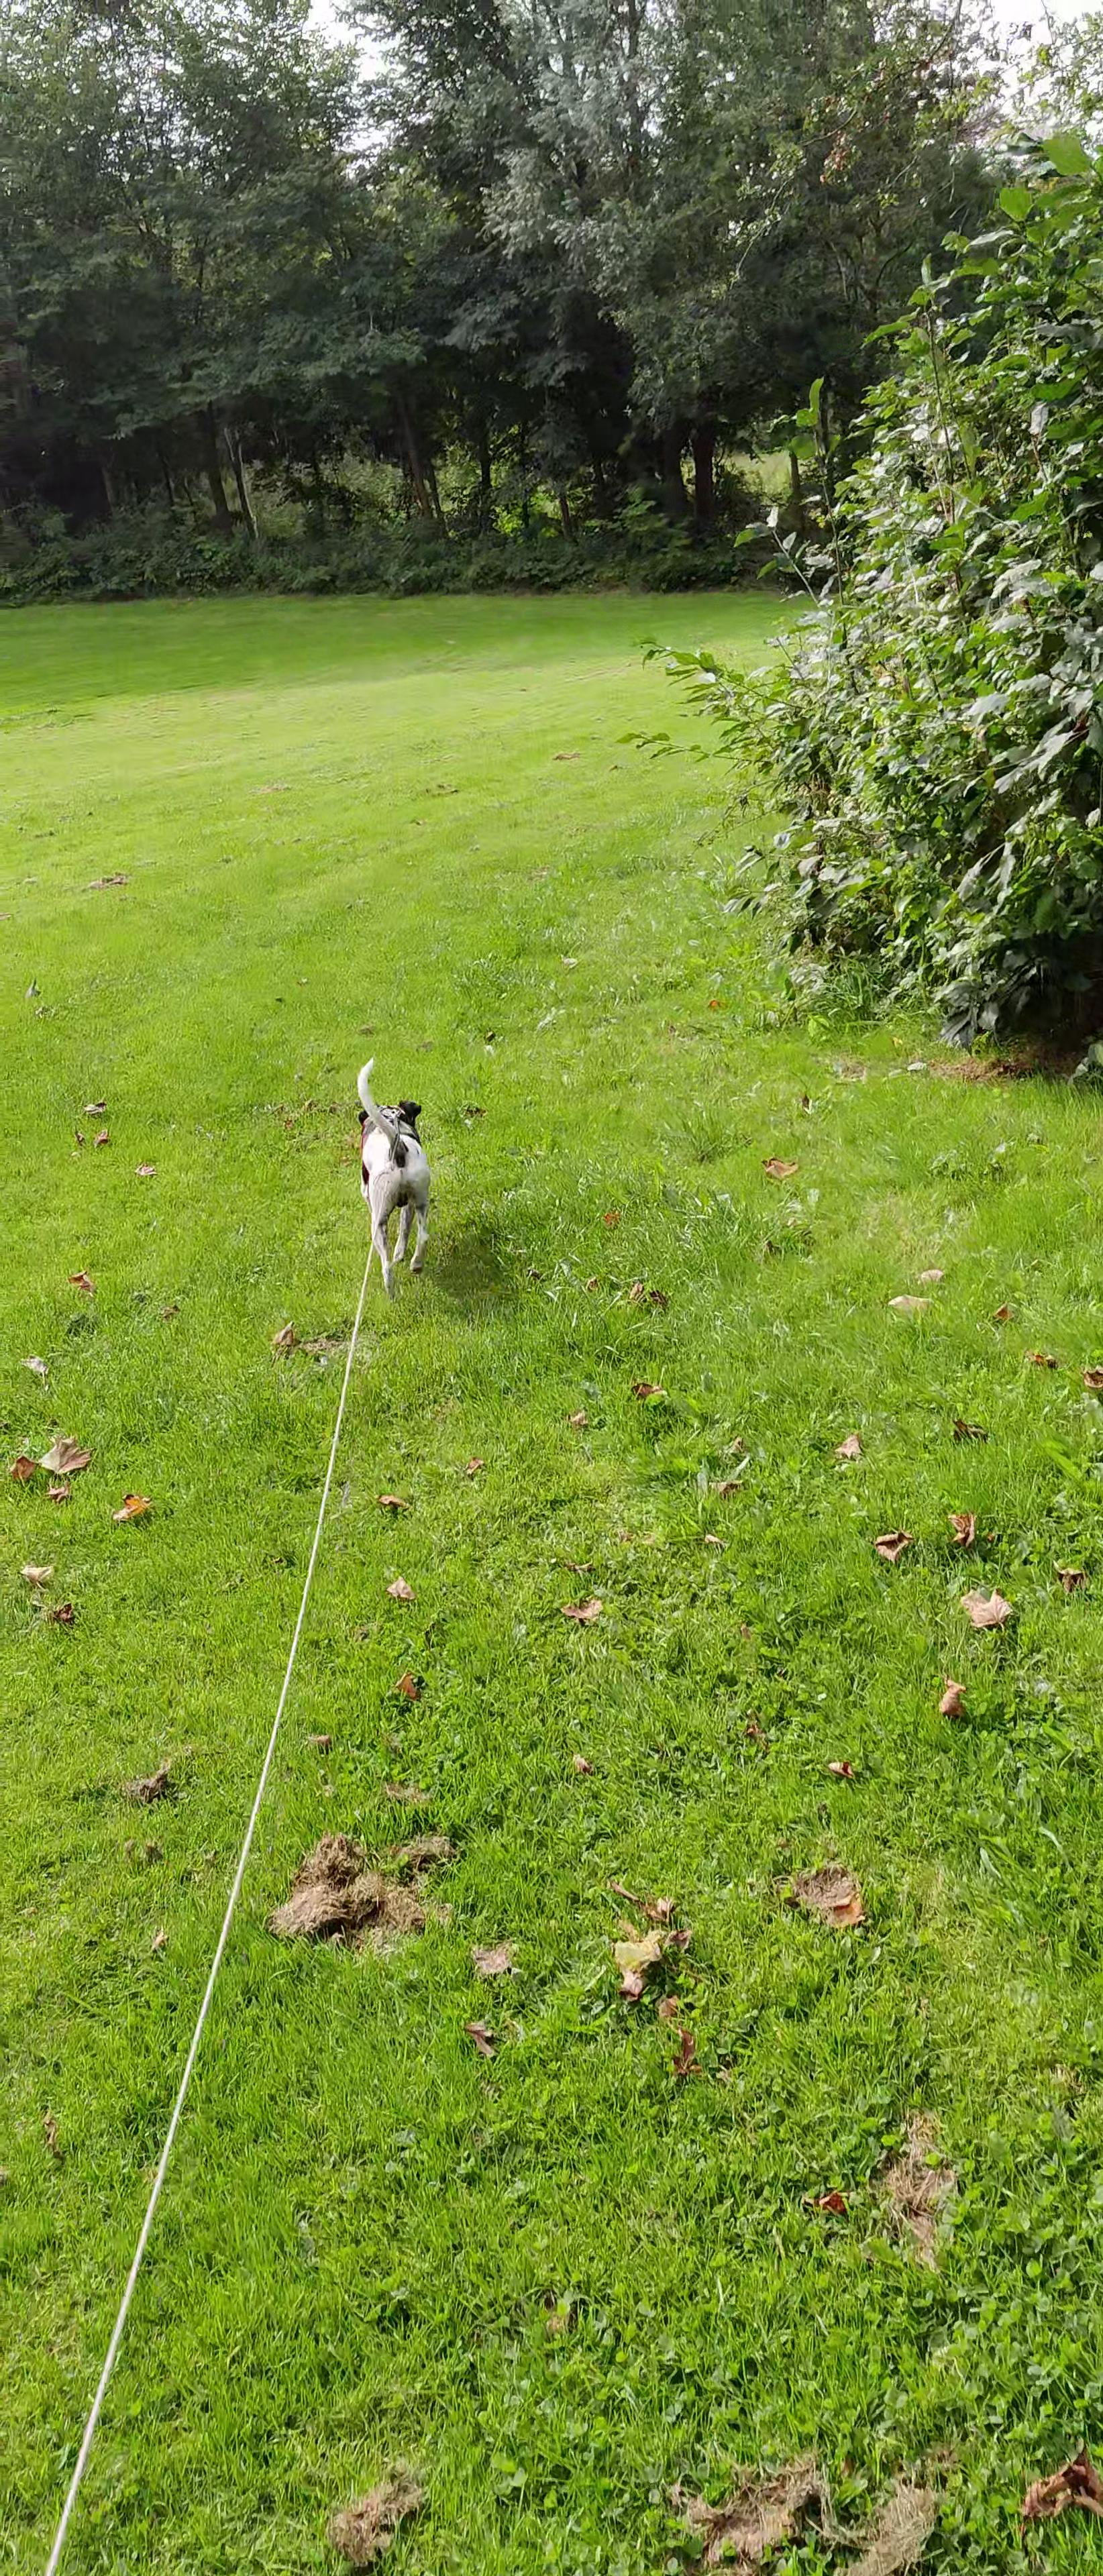Dog: (348, 1055, 436, 1296)
